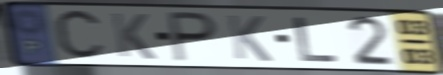2: (345, 13, 397, 67)
C: (51, 7, 108, 64)
K: (224, 13, 275, 64), (108, 11, 158, 62)
L: (291, 15, 342, 63)
P: (166, 10, 221, 65)
